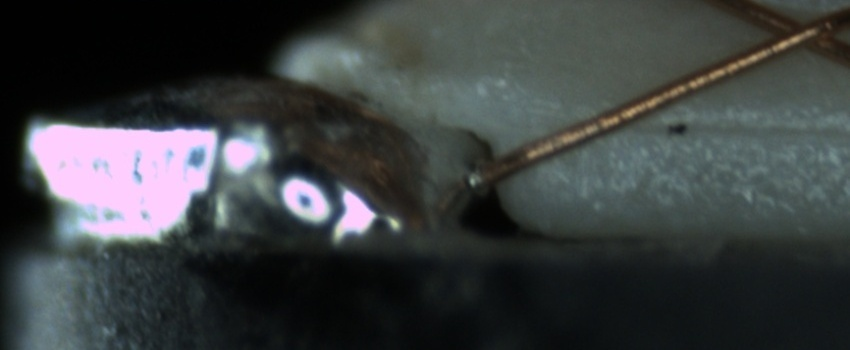CL: (745, 2, 844, 64)
DL: (566, 91, 847, 159)
